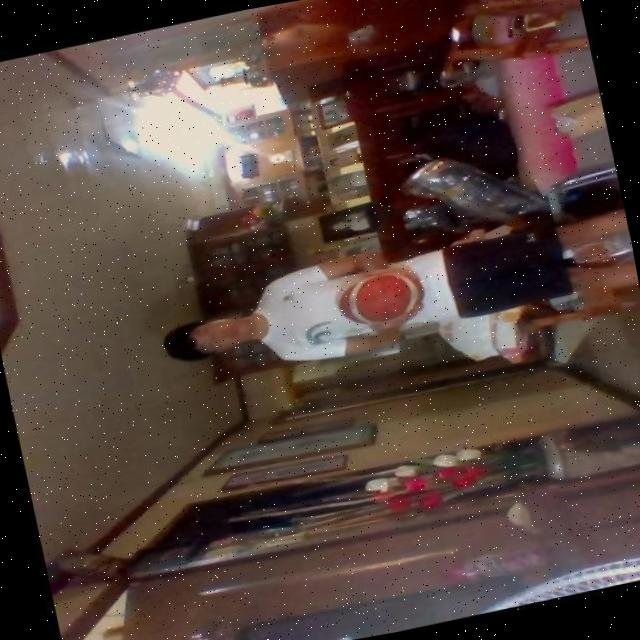ball: (326, 261, 431, 335)
